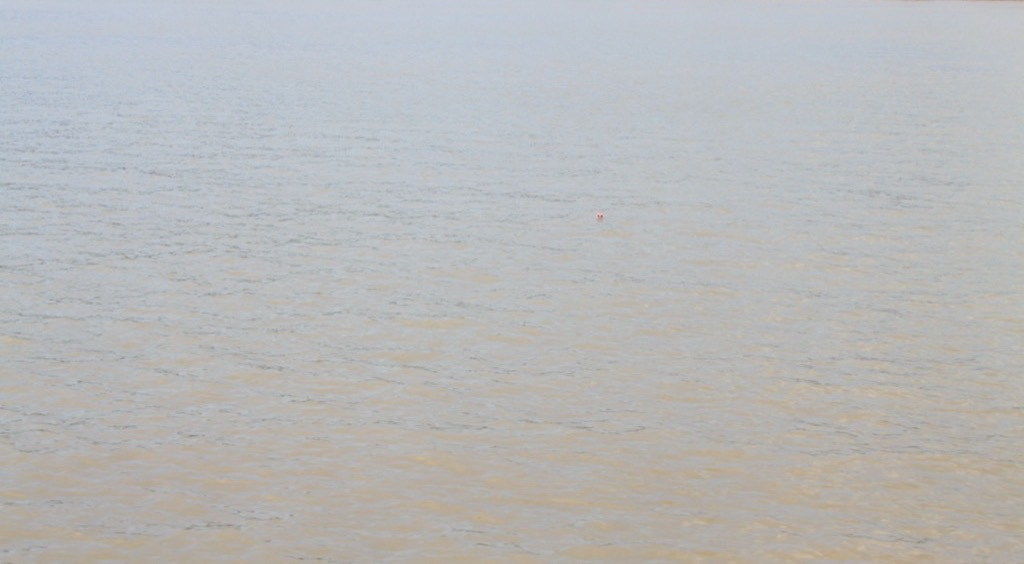plastic: (579, 196, 620, 238)
